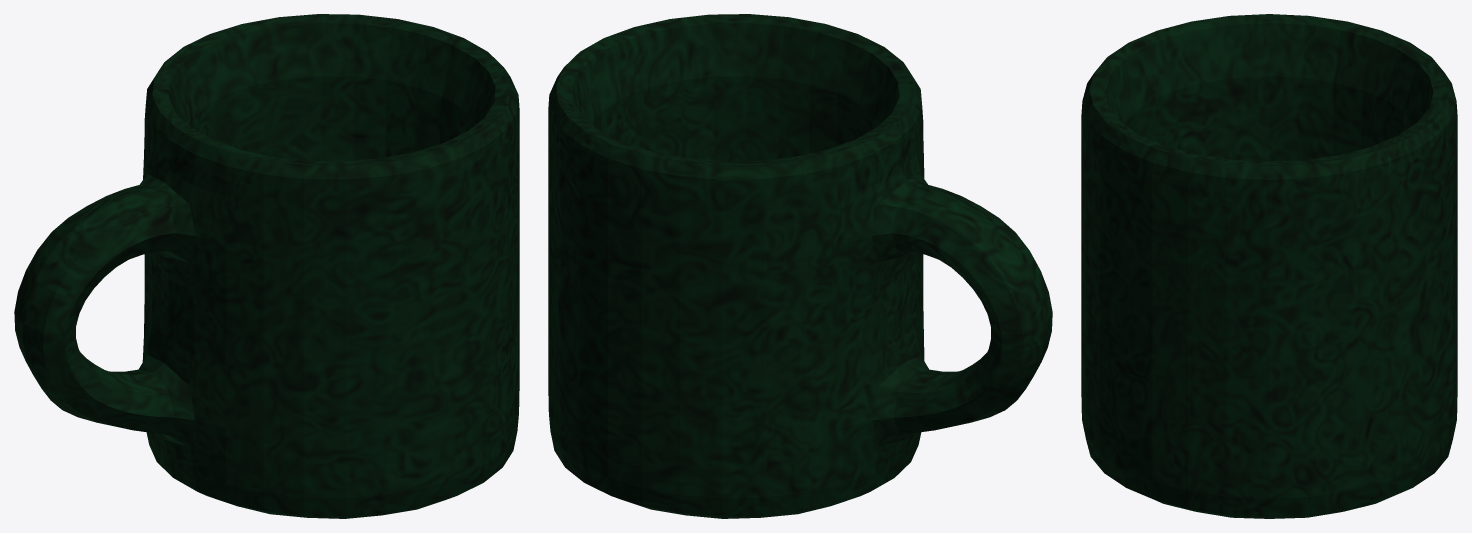
Rendered from Mug.fbx.
3 views of the same model, side by side, from view 1: azimuth 30°, elevation 25°; view 2: azimuth 150°, elevation 25°; view 3: azimuth 270°, elevation 25° (orthographic).
Parts seen in each view (by area): view 1: Export mug; view 2: Export mug; view 3: Export mug.
Boxes of the visible parts, x1,y1,x2,y2 form: Export mug: [14, 14, 519, 518]; Export mug: [548, 14, 1052, 518]; Export mug: [1081, 14, 1457, 518].
Bounding box in the file's own units: 13.17 × 9.57 × 9.1.
